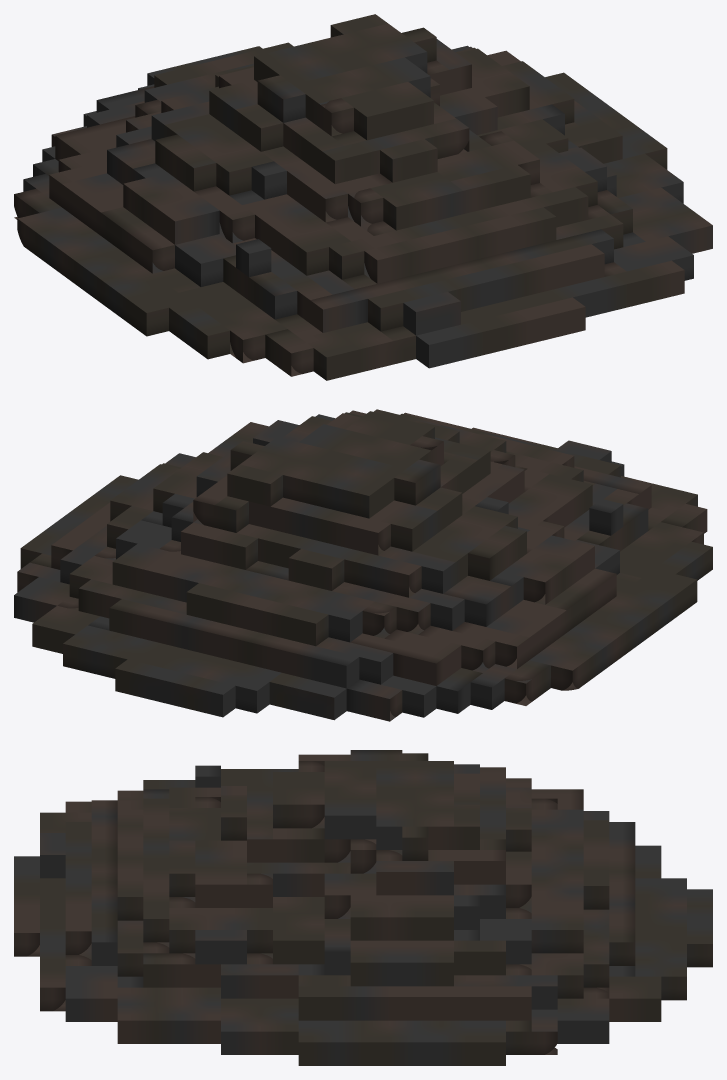
File: rockSmall1.dae
3 views of the same model, one above another, from view 1: azimuth 30°, elevation 25°; view 2: azimuth 150°, elevation 25°; view 3: azimuth 270°, elevation 25° (orthographic). The views are drawn at different scales.
Parts seen in each view (by area): view 1: rockSmall1; view 2: rockSmall1; view 3: rockSmall1.
Part boxes in pixels (box(x1,y1,x2,y2)): rockSmall1: box(14, 14, 712, 380); rockSmall1: box(14, 409, 712, 721); rockSmall1: box(14, 750, 712, 1065).
Size of the model in its own units: 25 by 6 by 27.
Materials: 1 (1 with a texture image).
